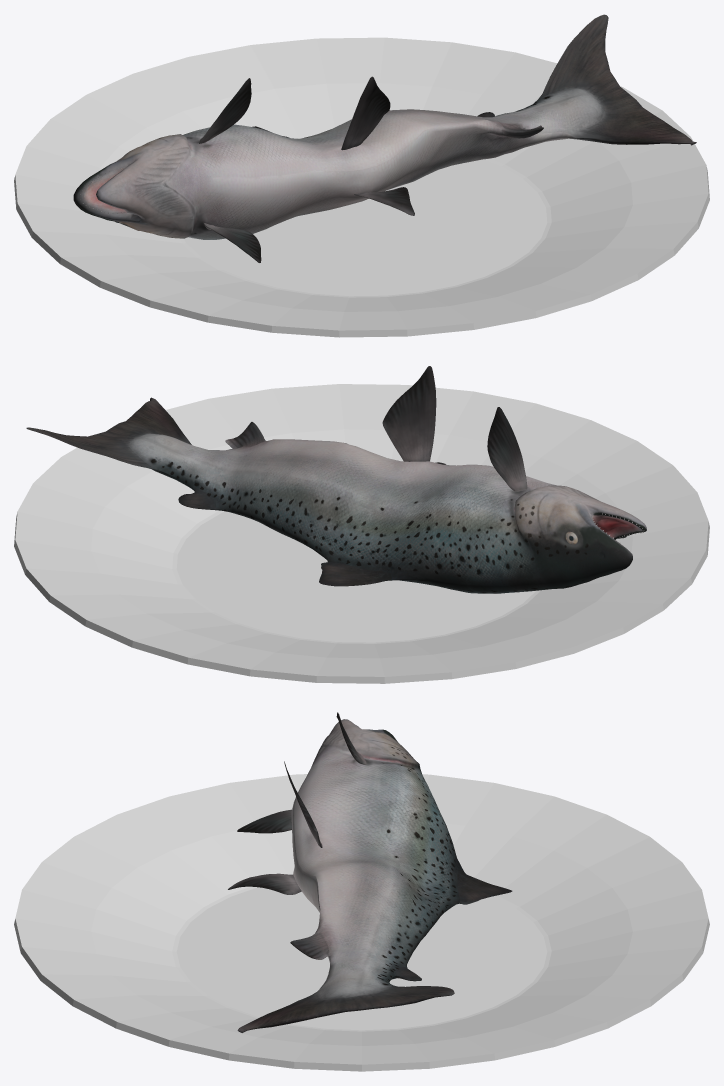
Rendered from salmon.fbx.
3 views of the same model, one above another, from view 1: azimuth 30°, elevation 25°; view 2: azimuth 150°, elevation 25°; view 3: azimuth 270°, elevation 25° (orthographic).
Parts seen in each view (by area): view 1: 원형.035, node_id30; view 2: 원형.035, node_id30; view 3: 원형.035, node_id30.
Part boxes in pixels (x1,y1,x2,y2): 원형.035: (14,37,709,337); node_id30: (73,14,696,262); 원형.035: (14,384,709,683); node_id30: (26,366,646,593); 원형.035: (14,774,709,1071); node_id30: (228,712,512,1032).
Bounding box in the file's own units: 293 × 91.24 × 293.
